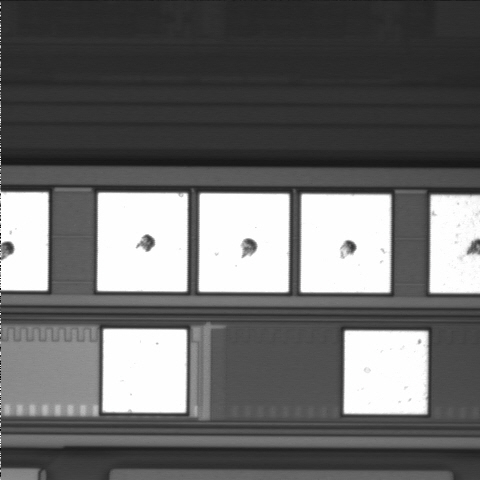pad: (97, 193, 188, 292), (199, 193, 289, 292), (301, 194, 391, 293), (103, 329, 187, 413), (344, 331, 428, 414)
